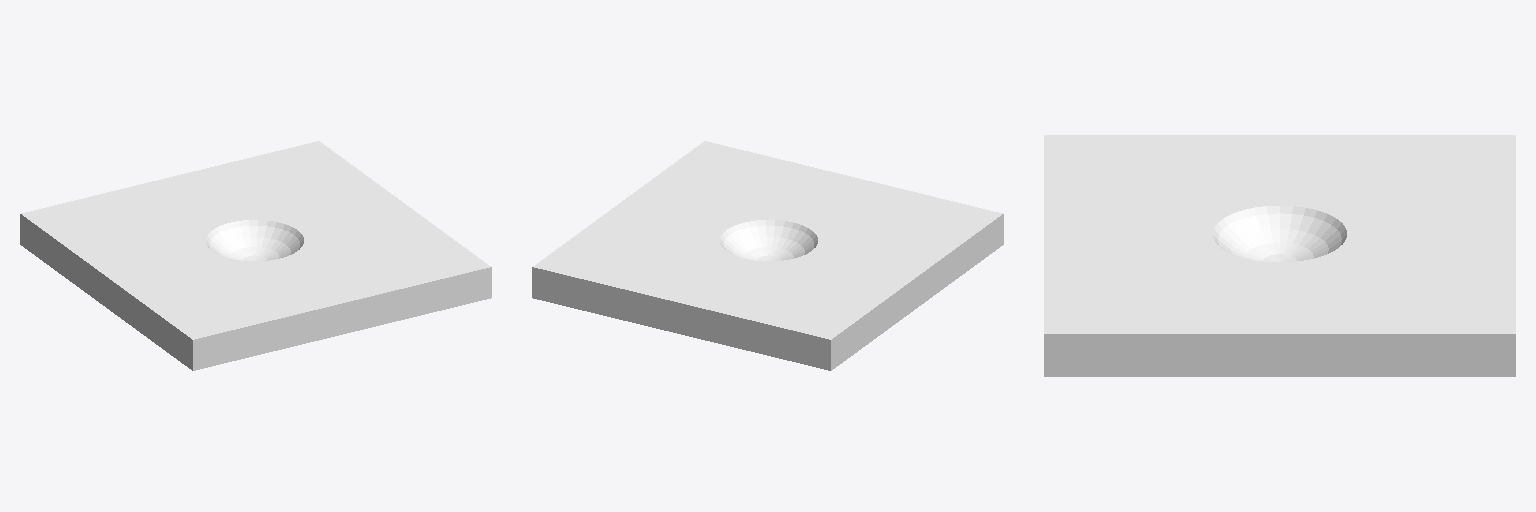
The robot description file, URDF, robot "urdf_robot":
<?xml version="1.0" ?>
<robot name="urdf_robot">
  <link name="base_link">
    <contact>
      <rolling_friction value="0.001"/>
      <spinning_friction value="0.001"/>
    </contact>
    <inertial>
      <origin rpy="0 0 0" xyz="0 0 0"/>
       <mass value="0"/>
       <inertia ixx="1" ixy="0" ixz="0" iyy="1" iyz="0" izz="1"/>
    </inertial>
    <visual>
      <origin rpy="0 0 0" xyz="0 0 0"/>
      <geometry>
				<mesh filename="concave_box.obj" scale="1 1 1"/>      
      </geometry>
      <material name="white">
        <color rgba="1 1 1 1"/>
      </material>
    </visual>
    <collision>
      <origin rpy="0 0 0" xyz="0 0 0"/>
      <geometry>
				<cdf filename="concave_box.cdf" scale="1 1 1"/>      
      </geometry>
    </collision>
  </link>
</robot>


--- Facts derived from the render (not from the file) ---
3 views of the same robot in one strip: view 1: azimuth 30°, elevation 25°; view 2: azimuth 150°, elevation 25°; view 3: azimuth 270°, elevation 25° (orthographic).
Robot: urdf_robot — 1 links, 0 joints (none); root link base_link; default pose: all joints at 0.
Visible links, largest first — view 1: base_link; view 2: base_link; view 3: base_link.
Link boxes in pixels (left/top/right/bottom): base_link: left=20, top=141, right=491, bottom=370; base_link: left=532, top=141, right=1003, bottom=370; base_link: left=1044, top=135, right=1515, bottom=376.
Bounding box of the posed robot: 2 × 2 × 0.2 m (x, y, z).
Meshes: 1 distinct files referenced, 1 mesh visuals loaded (1 OBJ).